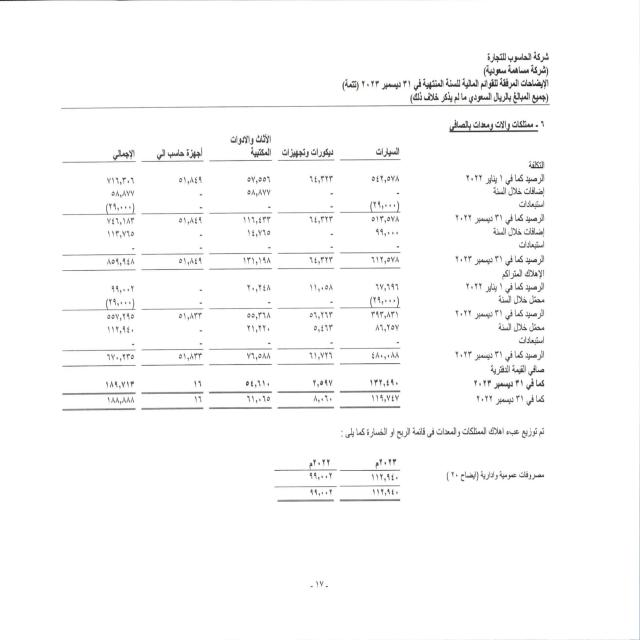notes: (462, 78, 552, 92)
table: (39, 140, 570, 422), (264, 447, 404, 518)
